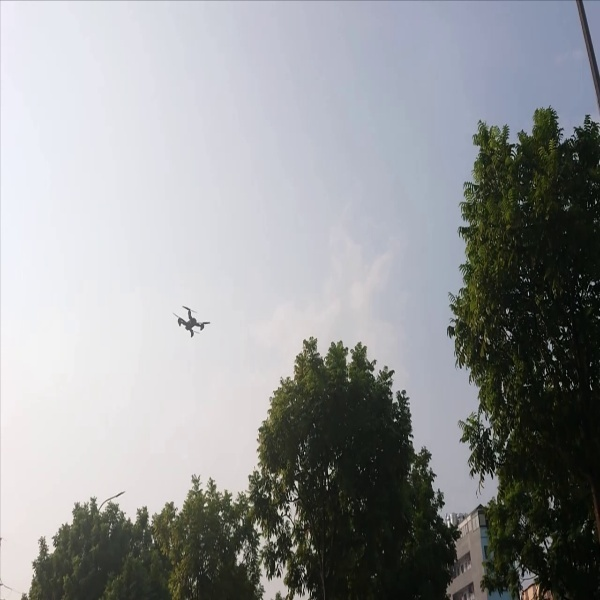drone: (175, 297, 215, 345)
